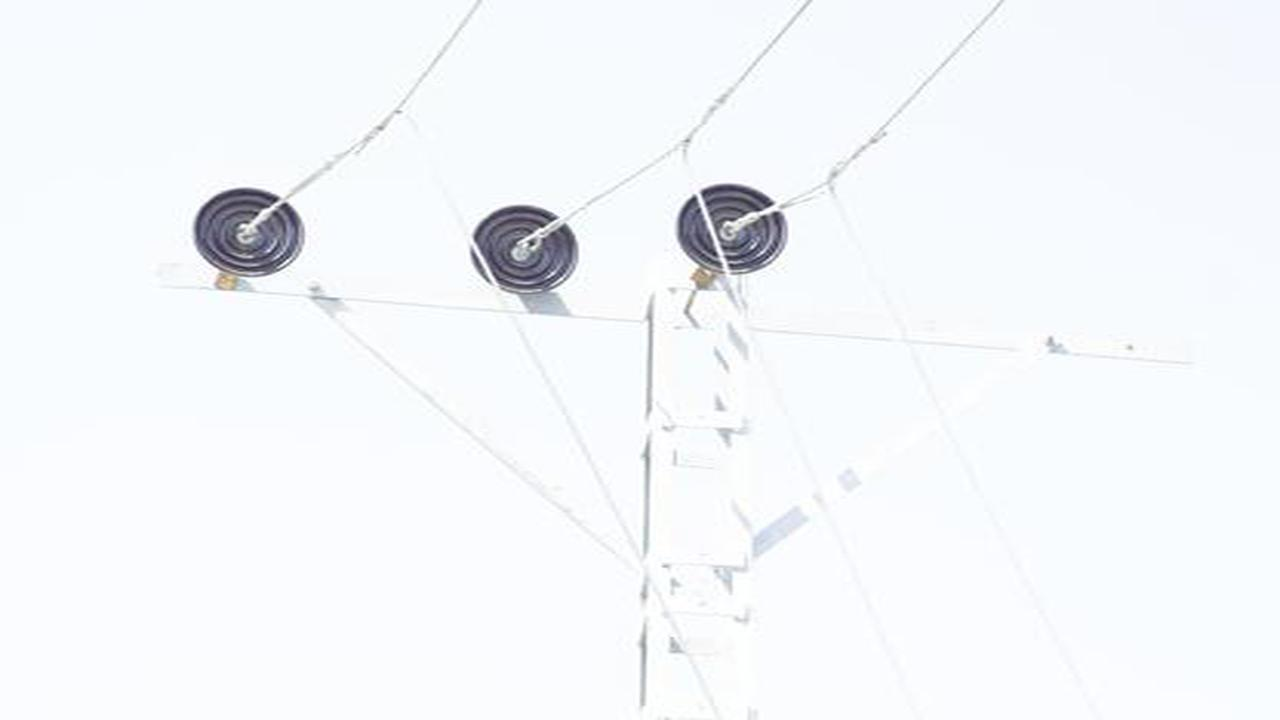insulator_disc: (190, 180, 313, 279), (466, 201, 584, 302), (678, 181, 793, 274)
